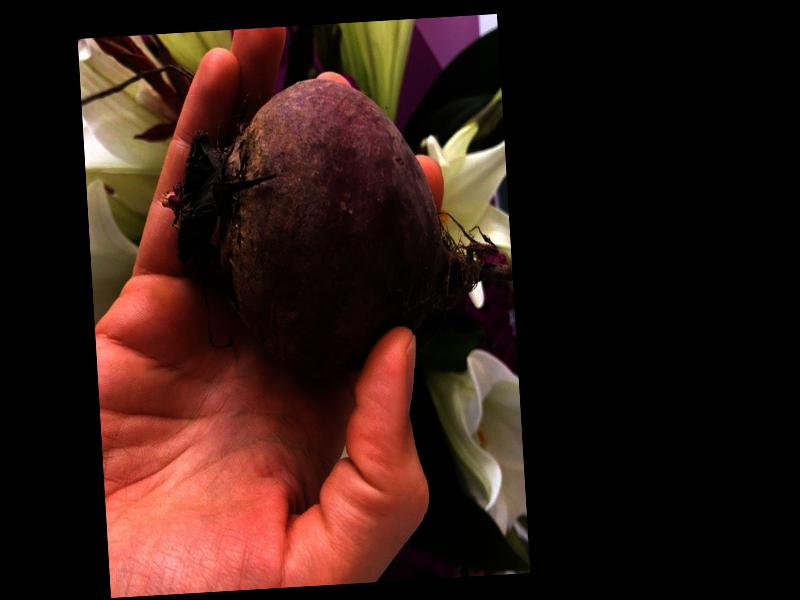Beet: (157, 66, 516, 386)
